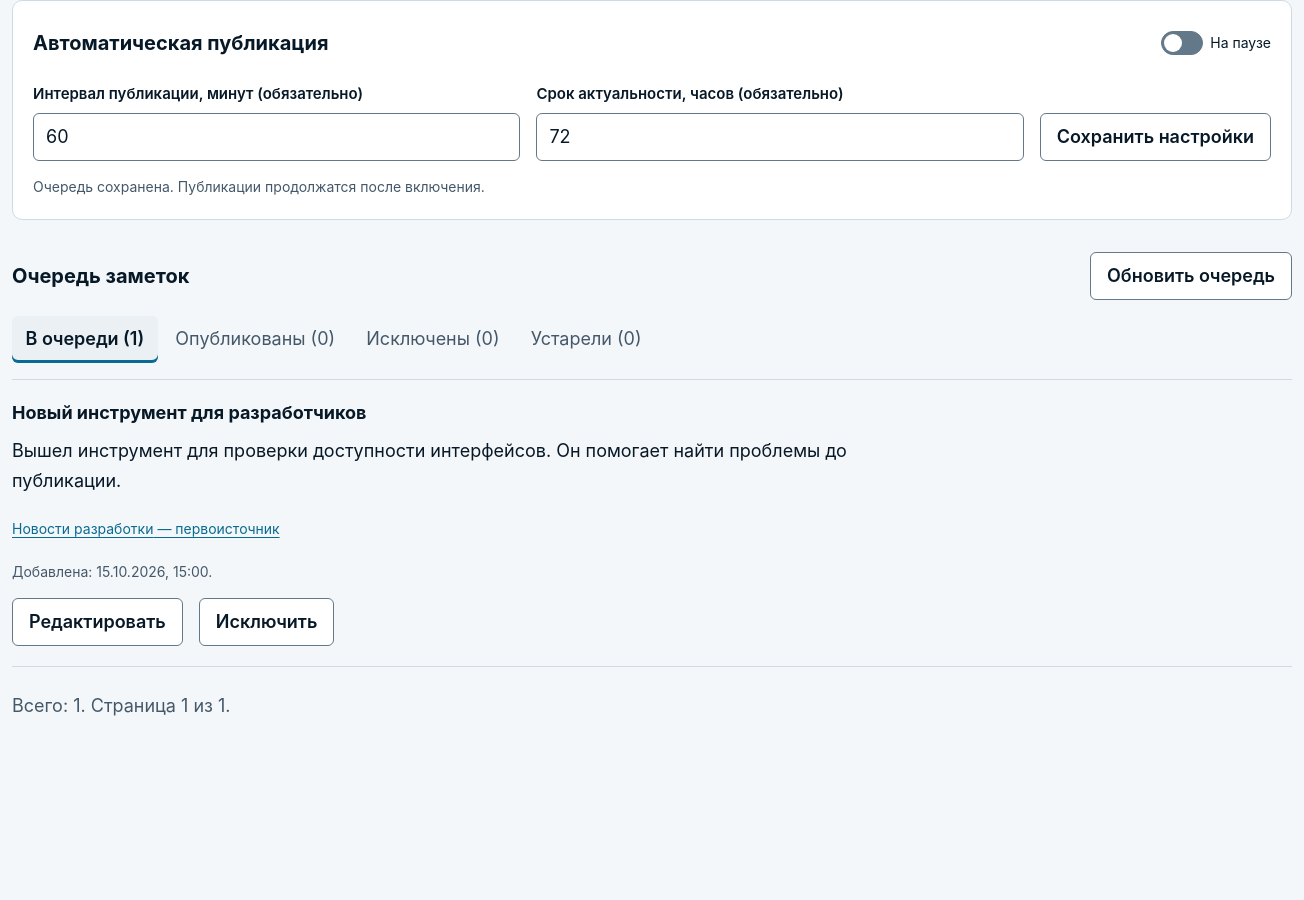
Test: queue refresh › keeps the queue after a network failure and retries the read
The image size is (1304, 900).
Click the button "Обновить очередь": (1191, 276) left=1090, top=252, right=1292, bottom=300
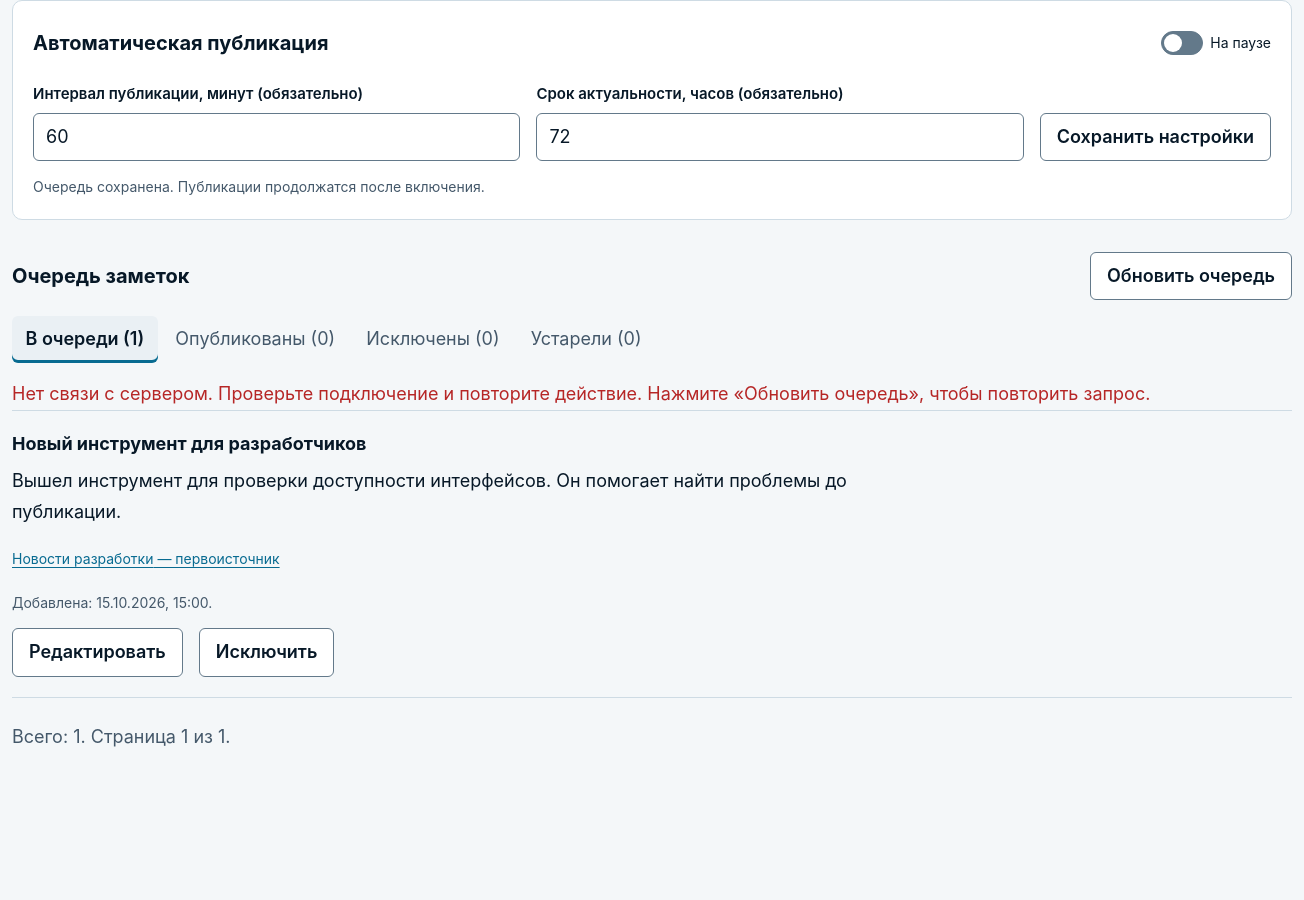
Expected: the heading "Новый инструмент для разработчиков" is shown, left=12, top=433, right=366, bottom=454
Expected: the text "Нет связи с сервером" is shown, left=12, top=383, right=642, bottom=404
Click the button "Обновить очередь": (1191, 276) left=1090, top=252, right=1292, bottom=300
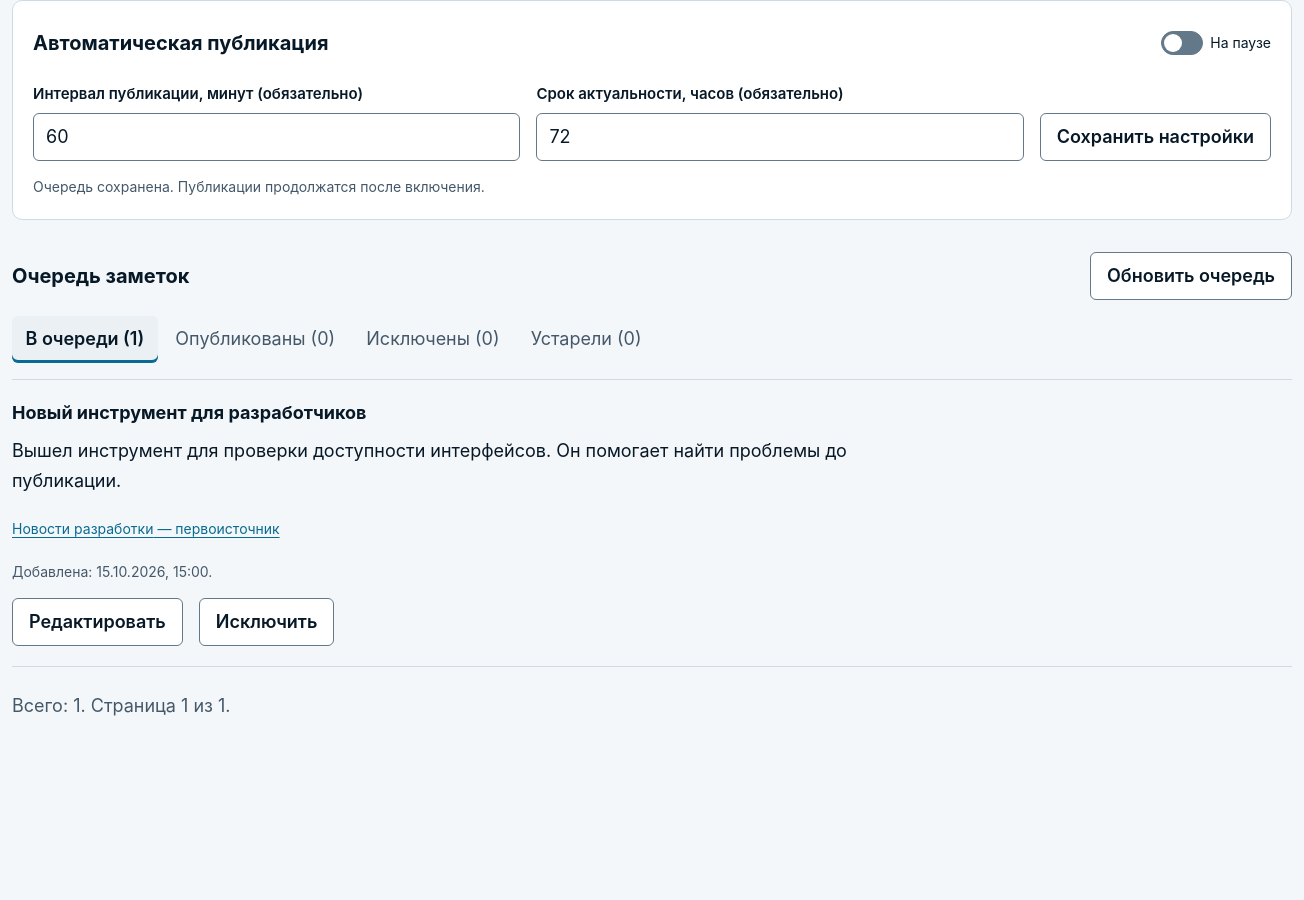
Expected: the text "Нет связи с сервером" is gone
